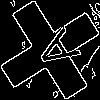A: (25, 25, 81, 79)
